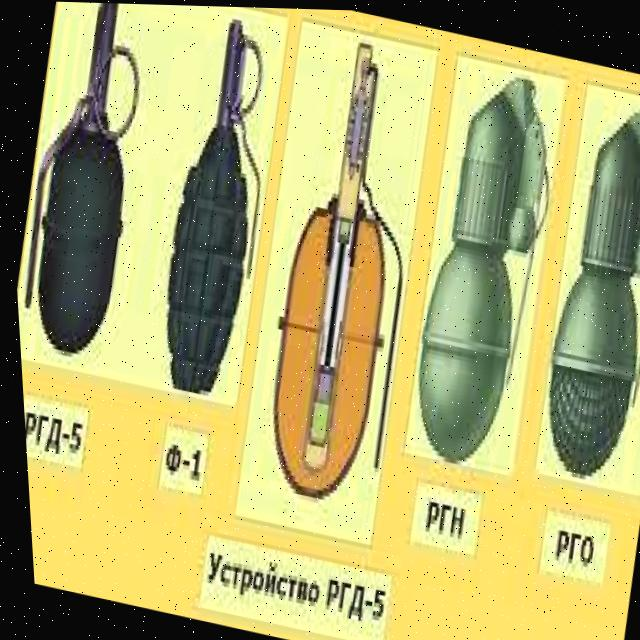grenade: (228, 25, 457, 524), (383, 56, 582, 471), (131, 6, 303, 407), (0, 0, 175, 377), (511, 85, 640, 490)
